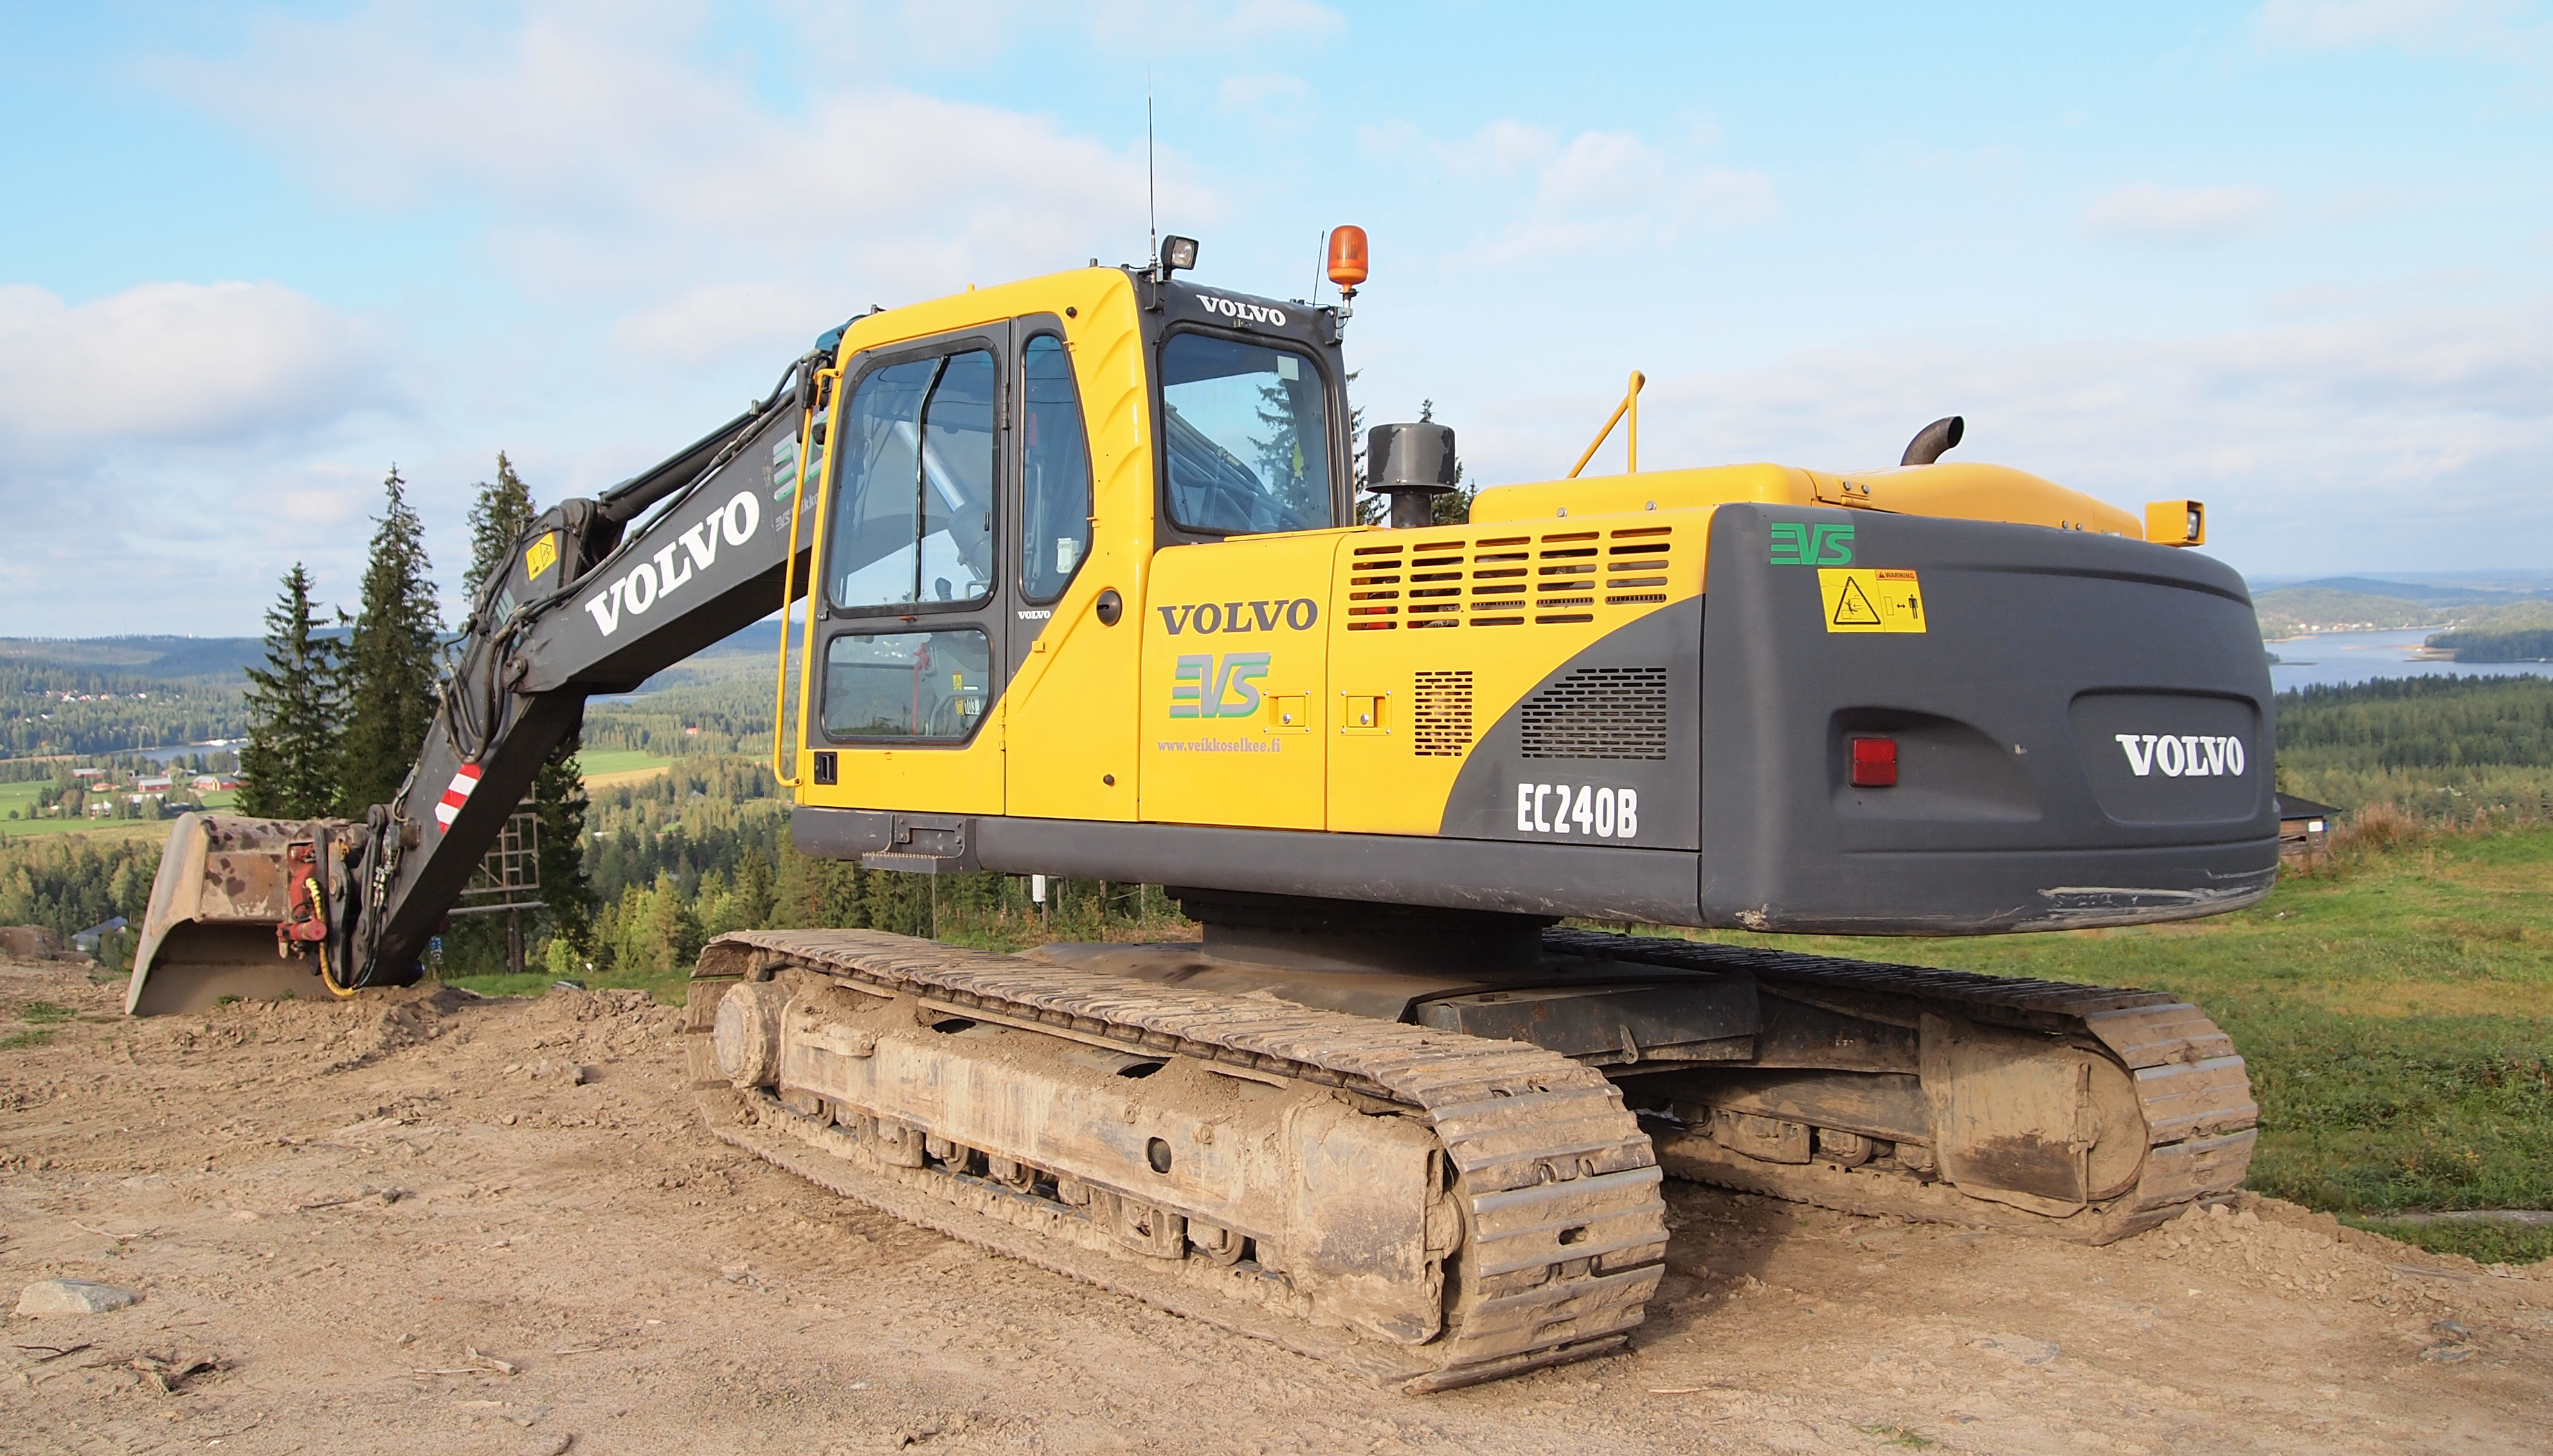excavator: (135, 287, 2271, 1358)
